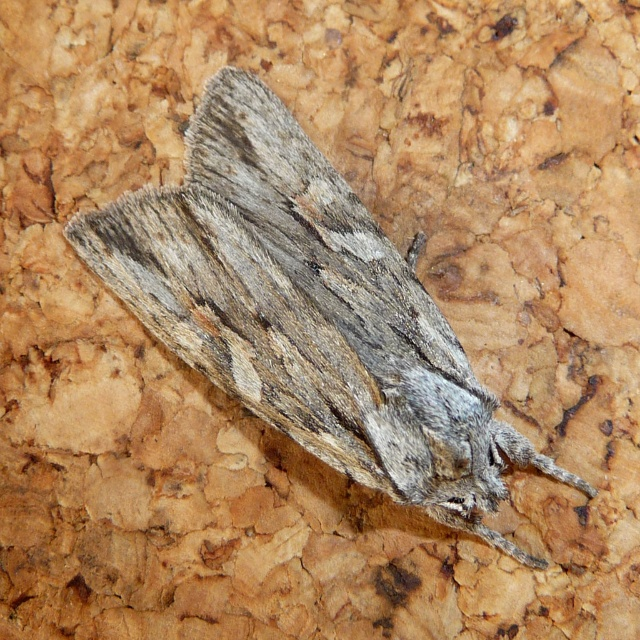Moths and butterflies: (60, 64, 597, 573)
